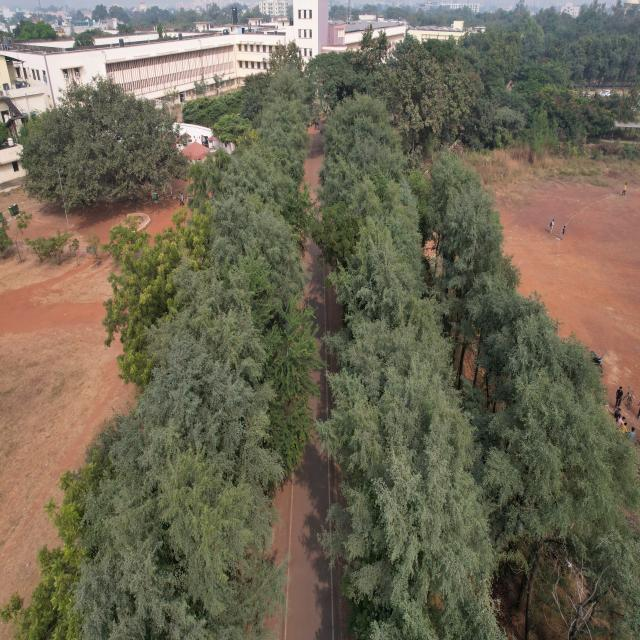Neem Tree: (109, 241, 175, 367), (12, 530, 75, 636)
